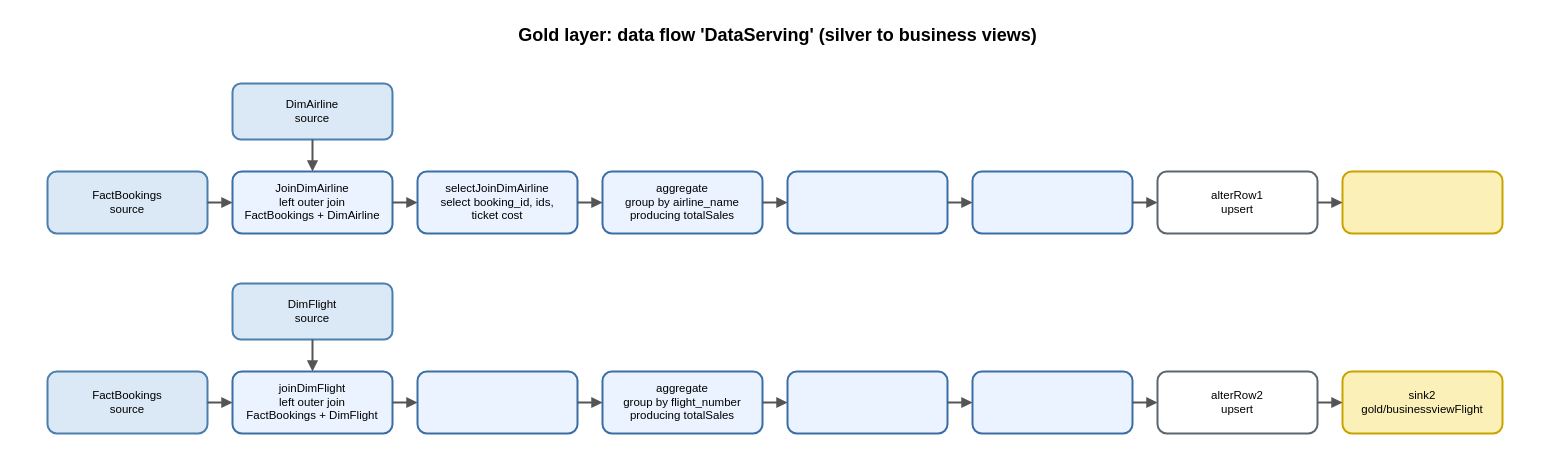
This 1554x451 diagram has some shape labels left out. The shapes that lost their labels are listed below. From the top down, each one's box as (x1, y1, x2, y2) in pixels, then its label:
(786, 170, 948, 234): Ranking window rank on totalSales
(971, 170, 1133, 234): filtertop5 keep top 5 airlines (topAirlinebySales)
(1341, 170, 1503, 234): sink1 gold/businessViewAirline
(416, 370, 578, 434): selectJoinDimFlight select booking_id, ids, ticket cost
(786, 370, 948, 434): Ranking1 window rank on totalSales
(971, 370, 1133, 434): filtertop keep top flights (topflightSales)
